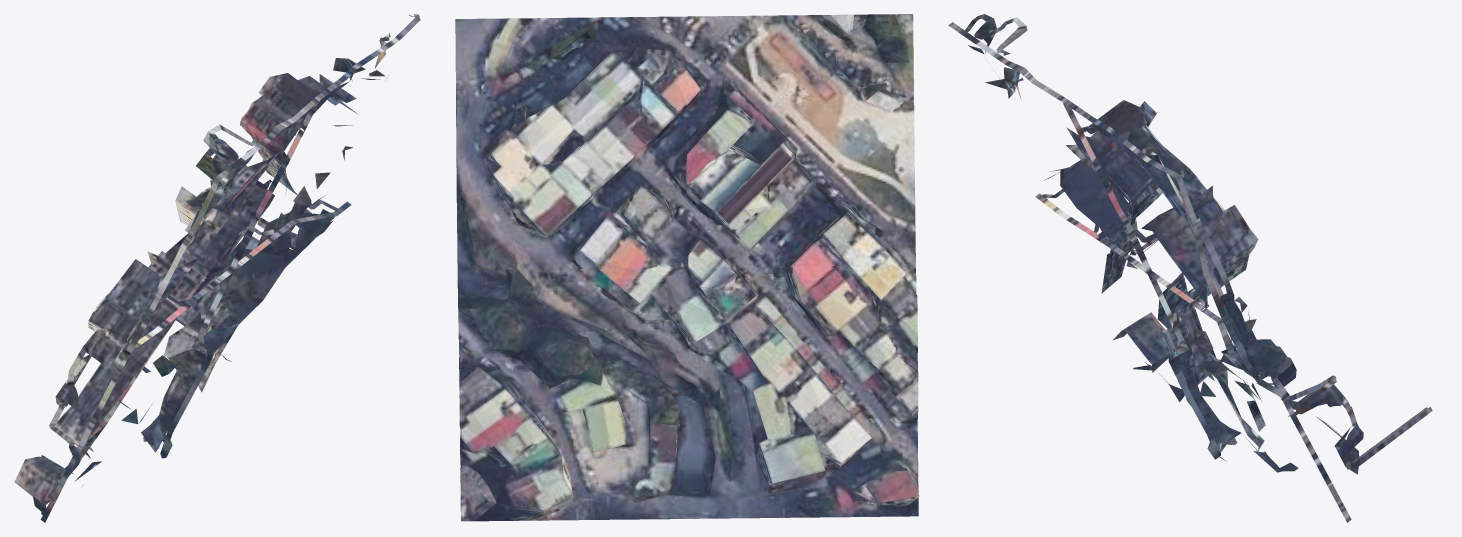
The picture shows the model from 3 angles, left to right: view 1: azimuth 30°, elevation 25°; view 2: azimuth 150°, elevation 25°; view 3: azimuth 270°, elevation 25°; orthographic projection. The views are drawn at different scales.
Size of the model in its own units: 158 by 148 by 161.
Materials: 1 (1 with a texture image).
